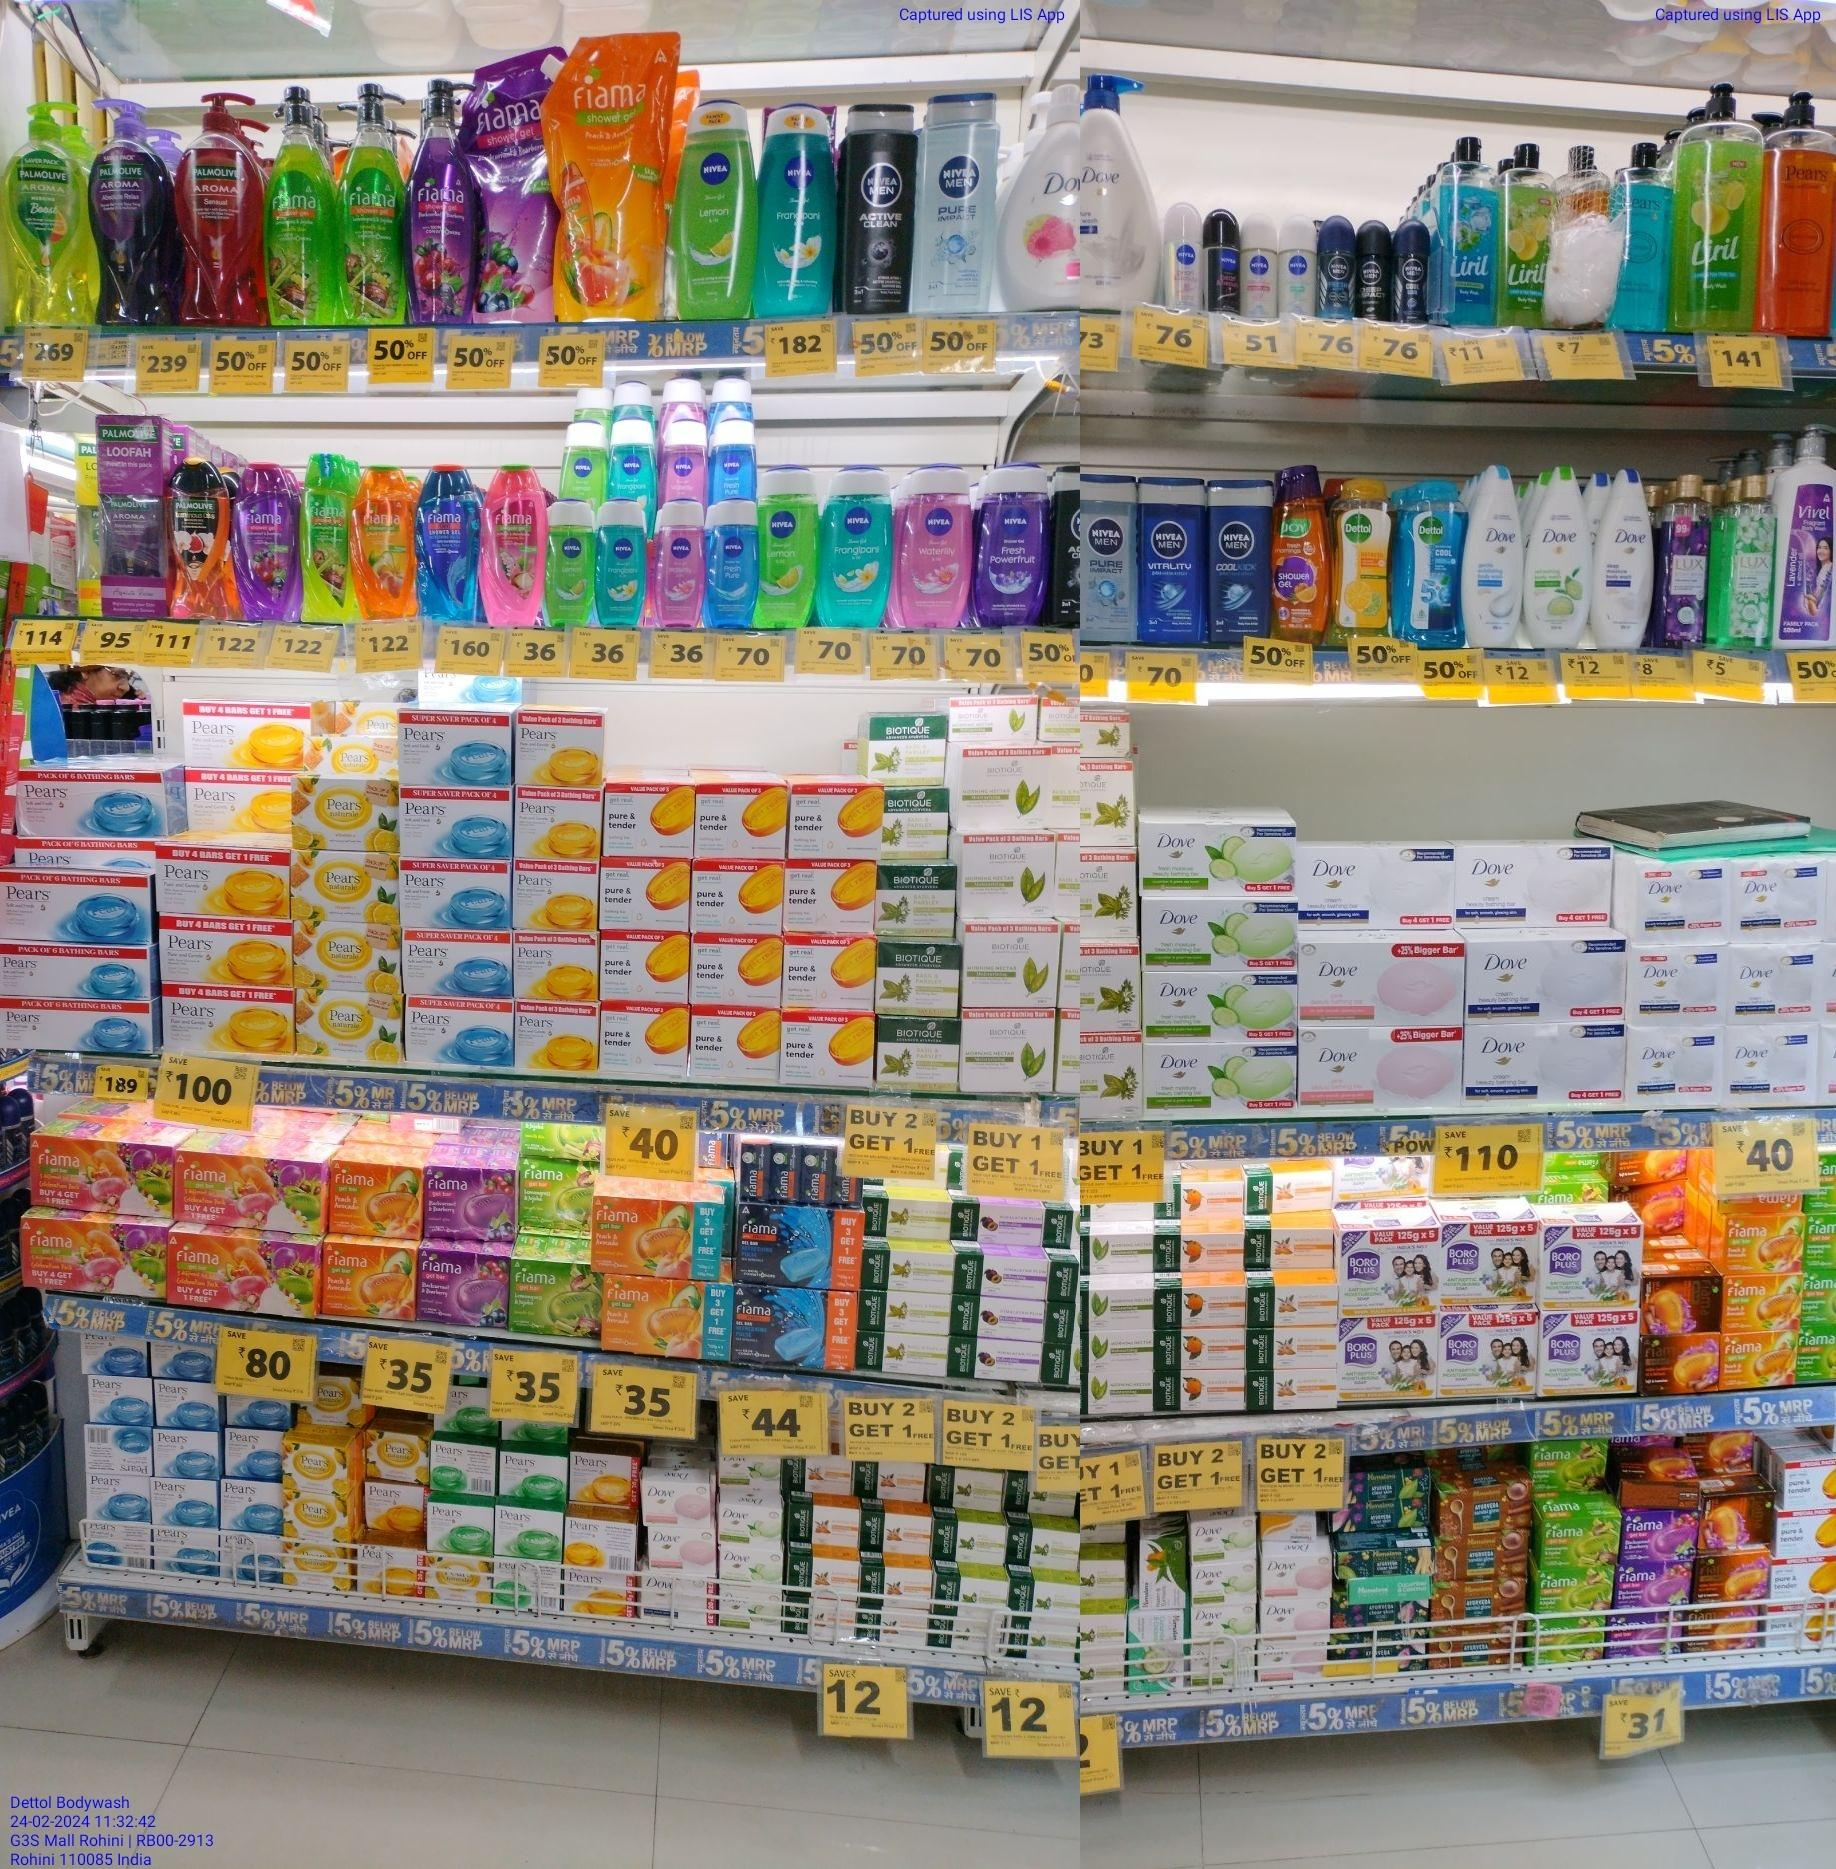Dettol_Bodywash_Cool: (1407, 482, 1464, 649)
Dettol_Bodywash_Refresh: (1338, 476, 1392, 649)
Dove_Deep_Moisture_Body_Wash_250ML: (1594, 469, 1653, 650)
Dove_Gentle_Exfoliating_Body_Wash_250ML: (1464, 464, 1522, 645)
Dove_Refreshing_Body_Wash_250ML: (1525, 466, 1592, 650)
Fiama_Shower_Gel_Patchouli_and_Macadamia_250ML: (483, 464, 541, 629)
Fiama_Shower_Gel_Peach_and_Avocado_250ML: (350, 464, 414, 619)
Joy_Shower_Gel_Mandarin_and_Lemongrass_250ML: (1274, 462, 1328, 640)
Liril_Cooling_Mint_Body_Wash_250ML: (1441, 136, 1496, 321)
Liril_Lime_and_Tea_Tree_Oil_Body_Wash_250ML: (1506, 141, 1557, 326)
Lux_Black_Orchid_Scent_and_Juniper_Oil_Body_Wash_245ML: (1665, 477, 1717, 645)
Lux_Body_Wash_Skin_Detox_Freesia_Scent_and_Alove_Vera_245ML: (1727, 476, 1779, 645)
Nivea_Shower_Gel_Frangipani_and_Oil_250ML: (757, 108, 839, 318), (822, 464, 893, 627)
Nivea_Shower_Gel_Fresh_Powerfruit_250ML: (980, 467, 1047, 624)
Nivea_Shower_Gel_Lemon_and_Oil_250ML: (679, 101, 750, 318), (760, 466, 815, 627)
Nivea_Shower_Gel_Waterlily_and_Oil_250ML: (908, 466, 970, 629)
Palmolive_Luminous_Oils_With_White_Orchid_Shower_Gel_250ML: (170, 457, 229, 620)
